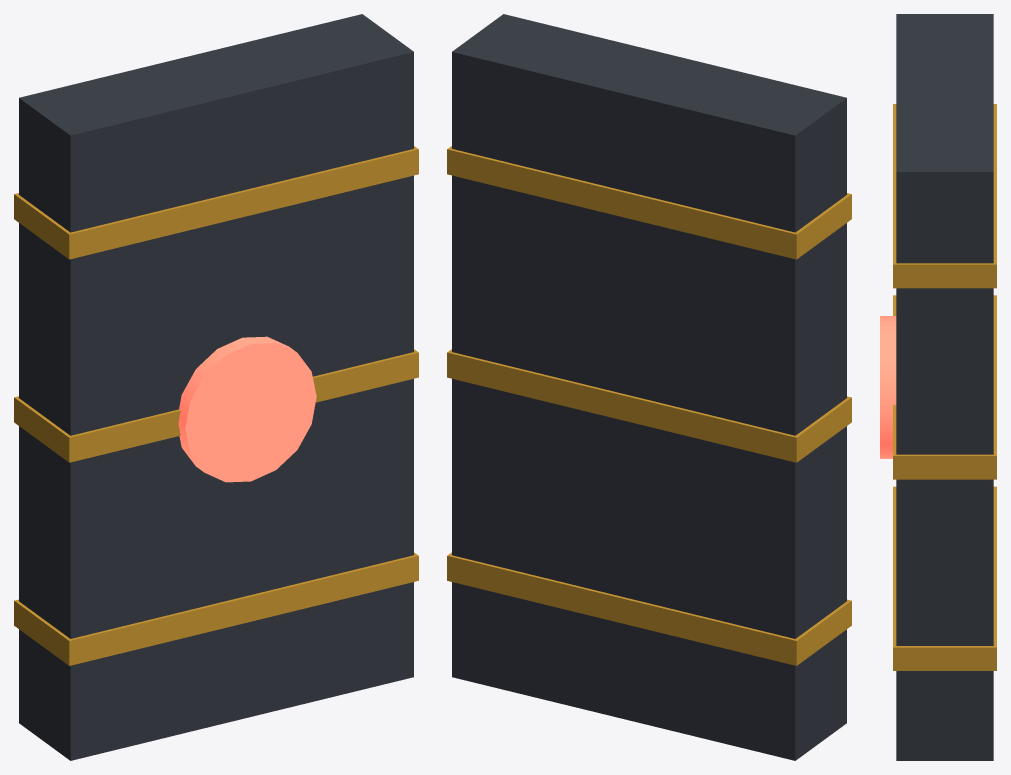
The model's file is f_vaultdoor.glb.
3 renders of one model, left to right at view 1: azimuth 30°, elevation 25°; view 2: azimuth 150°, elevation 25°; view 3: azimuth 270°, elevation 25°, orthographic. The views are drawn at different scales.
Parts seen in each view (by area): view 1: vaultdoor; view 2: vaultdoor; view 3: vaultdoor.
Part boxes in pixels (box(x1,y1,x2,y2)): vaultdoor: box(14, 14, 418, 760); vaultdoor: box(447, 14, 851, 760); vaultdoor: box(880, 14, 996, 760).
Size of the model in its own units: 1.17 by 2 by 0.36.
